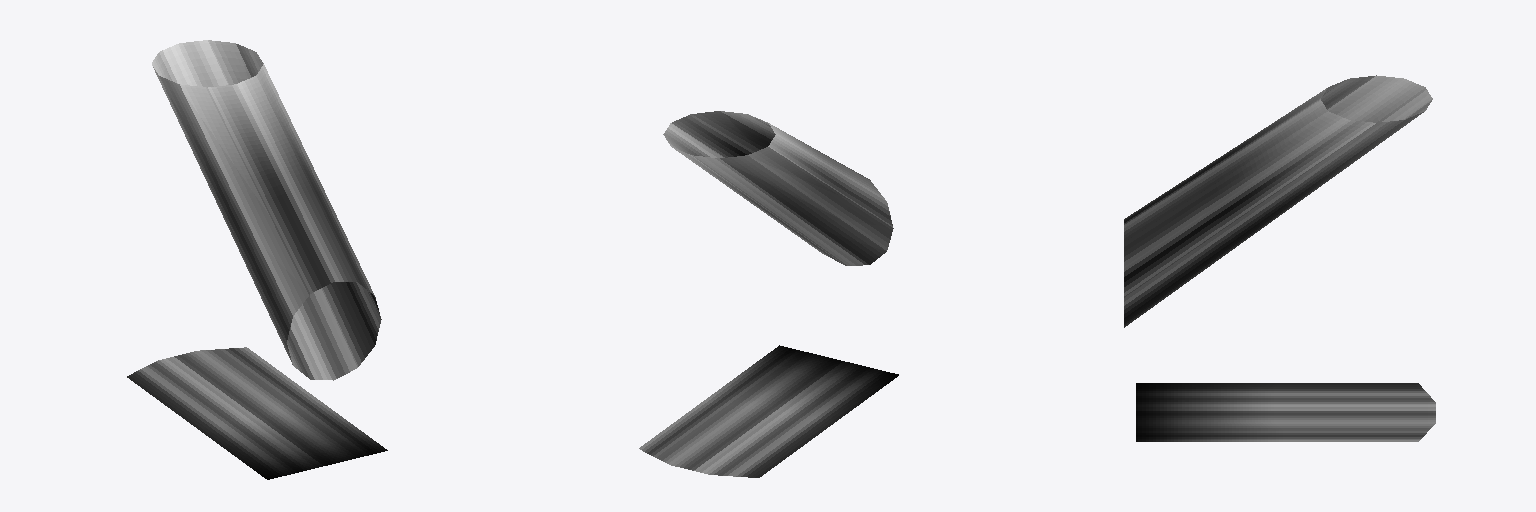
The picture shows the model from 3 angles: view 1: azimuth 30°, elevation 25°; view 2: azimuth 150°, elevation 25°; view 3: azimuth 270°, elevation 25°; orthographic projection.
Parts seen in each view (by area): view 1: polygon0; view 2: polygon0; view 3: polygon0.
Boxes of the visible parts, box(x1,y1,x2,y2) form: polygon0: box(127, 40, 387, 479); polygon0: box(639, 111, 898, 477); polygon0: box(1124, 75, 1435, 441).
Size of the model in its own units: 2 by 4.96 by 4.48.
Materials: 1 (1 with a texture image).